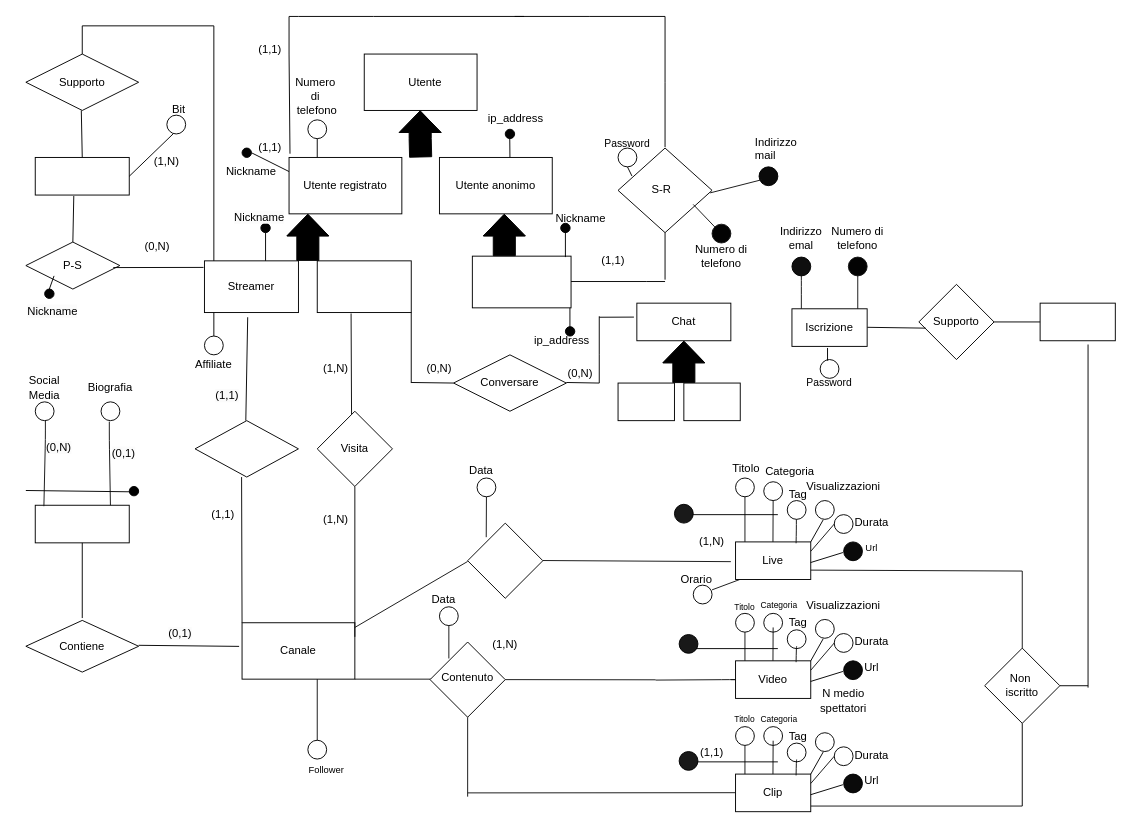
Image size: 1132x828. Some labels were removed from this diagram. Here are the shapes that lost their labels. From the top down, the centre of each, then its label:
pixel 81 176: Portafoglio
pixel 363 286: Streamer-Spettatore
pixel 521 281: Spettatore
pixel 1077 321: Viewer
pixel 645 401: Pubblica
pixel 711 401: Privata
pixel 246 448: Possiede
pixel 81 523: Descrizione
pixel 505 560: Trasmette
